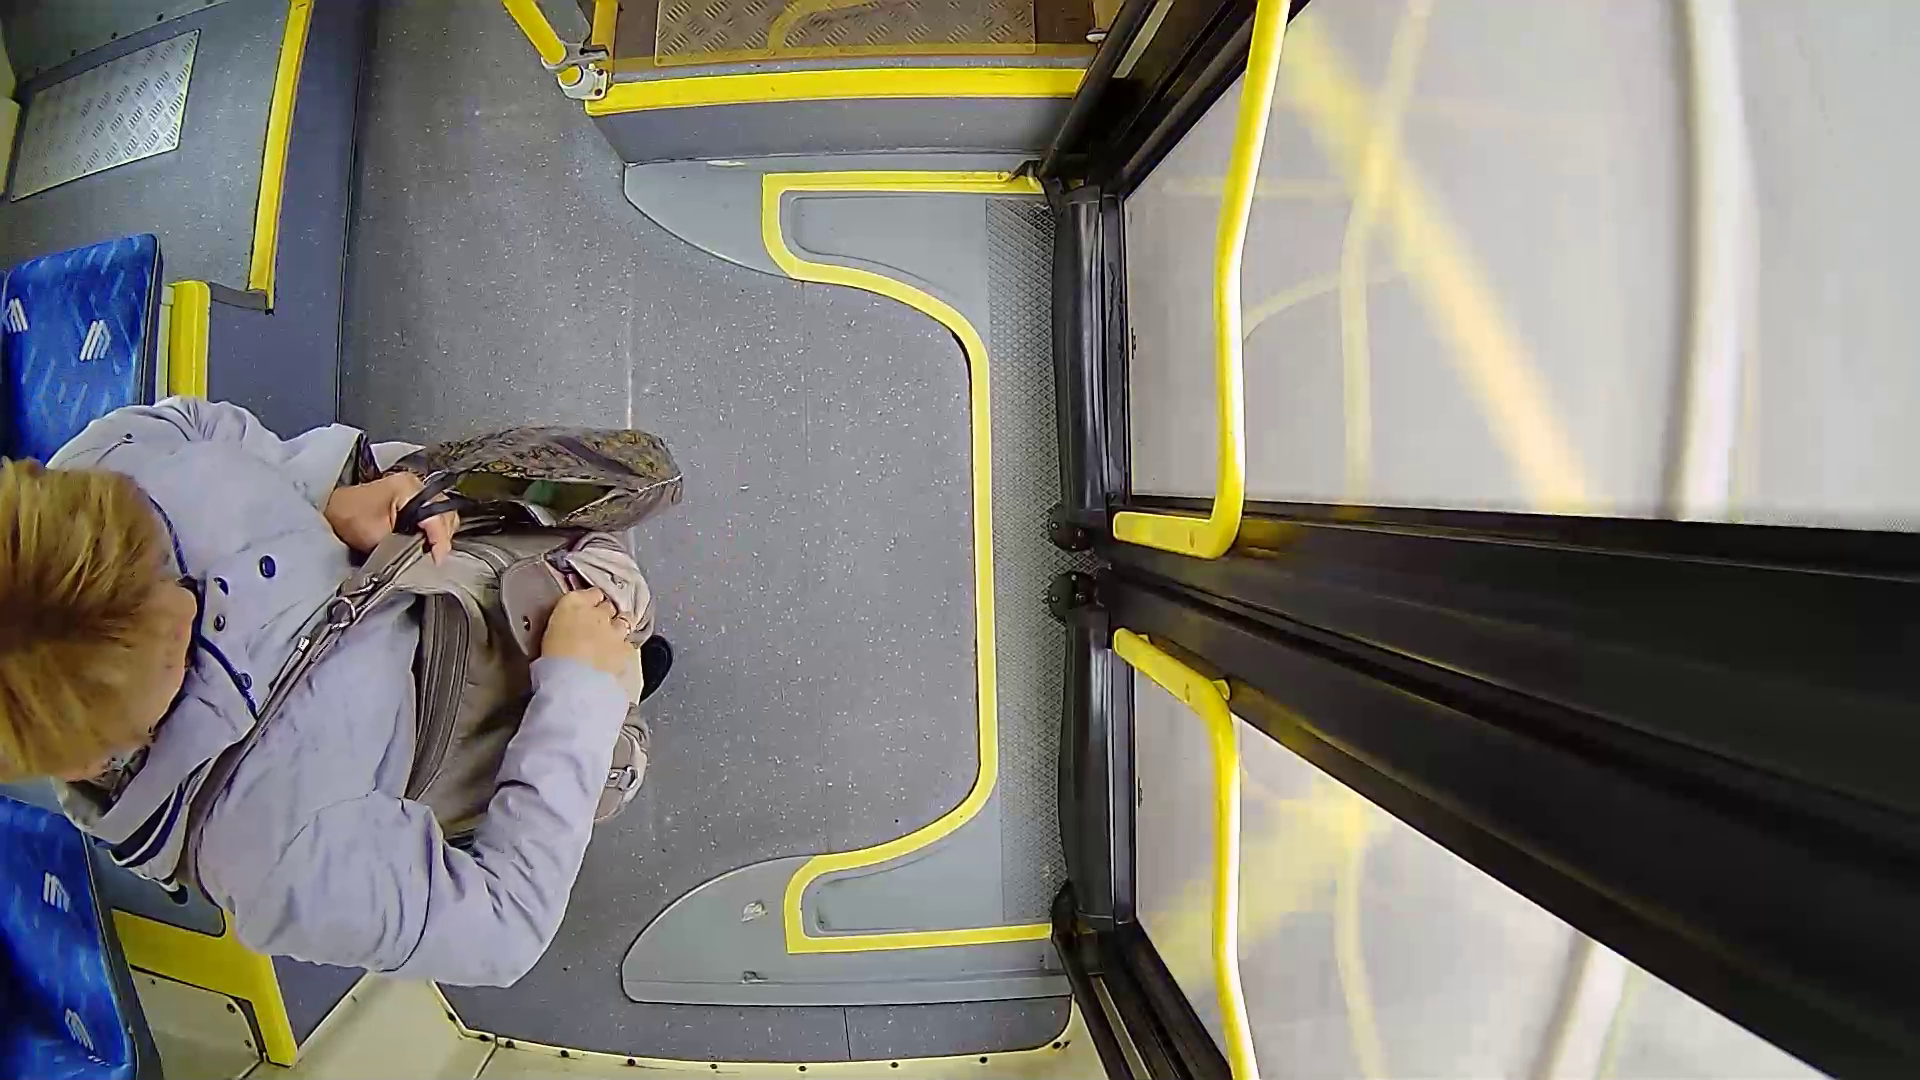person: (36, 318, 733, 937)
